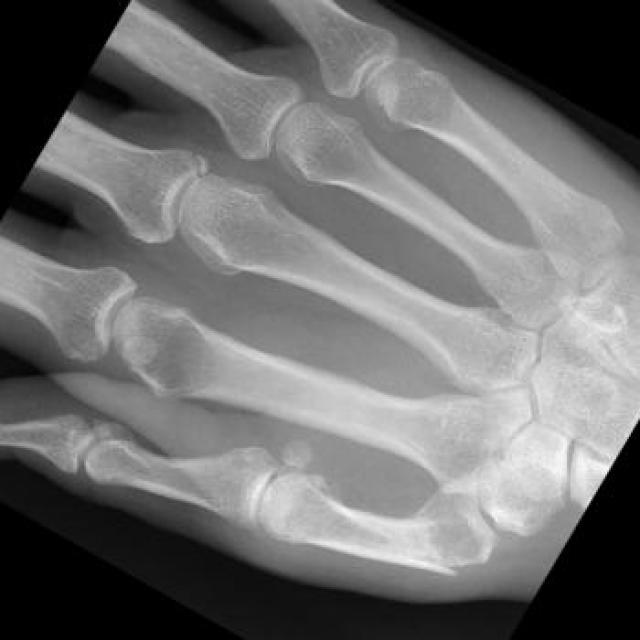Fracture: (385, 505, 463, 583)
